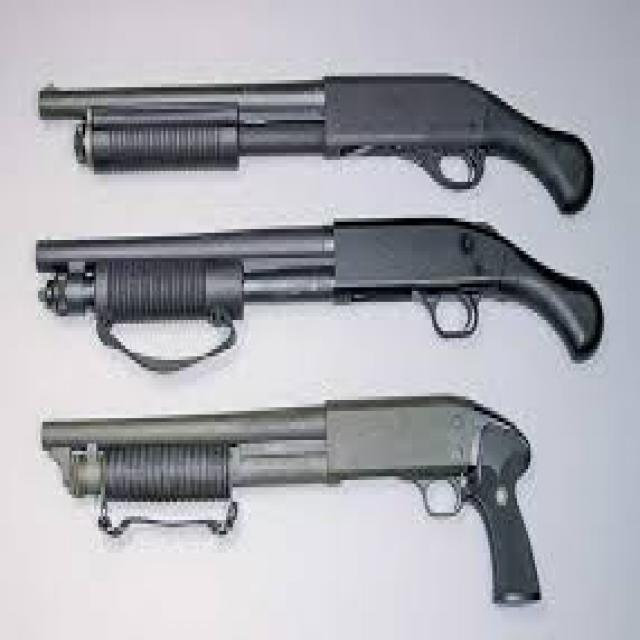long weapon: (33, 394, 583, 618), (27, 46, 601, 216), (24, 204, 608, 364)
